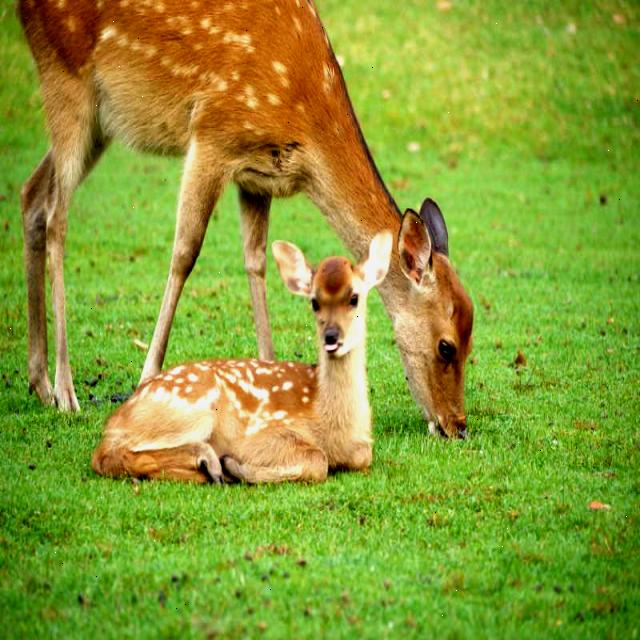deer: (253, 219, 401, 396), (391, 189, 477, 453)
